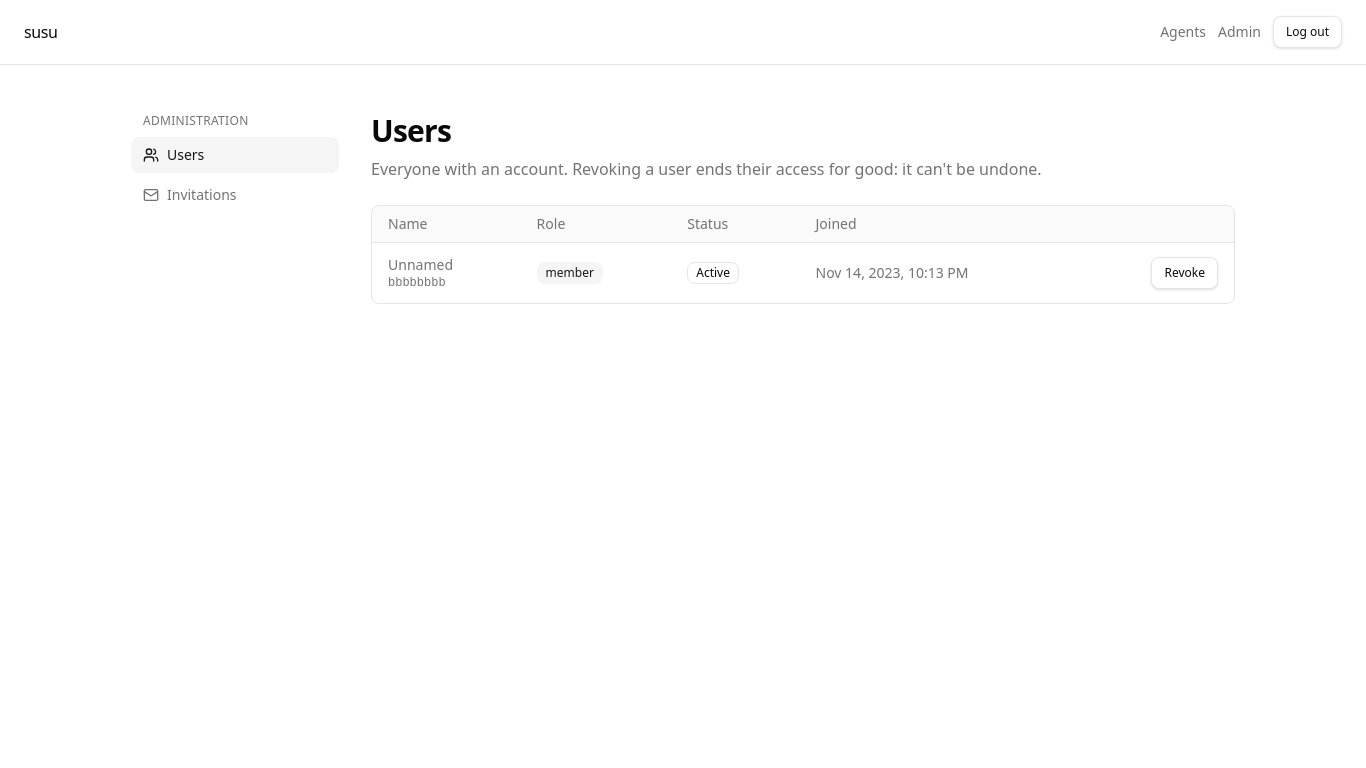
Test: users › an unnamed user is identified by a short id in the confirmation
This screenshot has width=1366, height=768.
Step 1. Click the button with aria-label "Revoke bbbbbbbb" → [1185, 273], box [1152,257,1218,289]
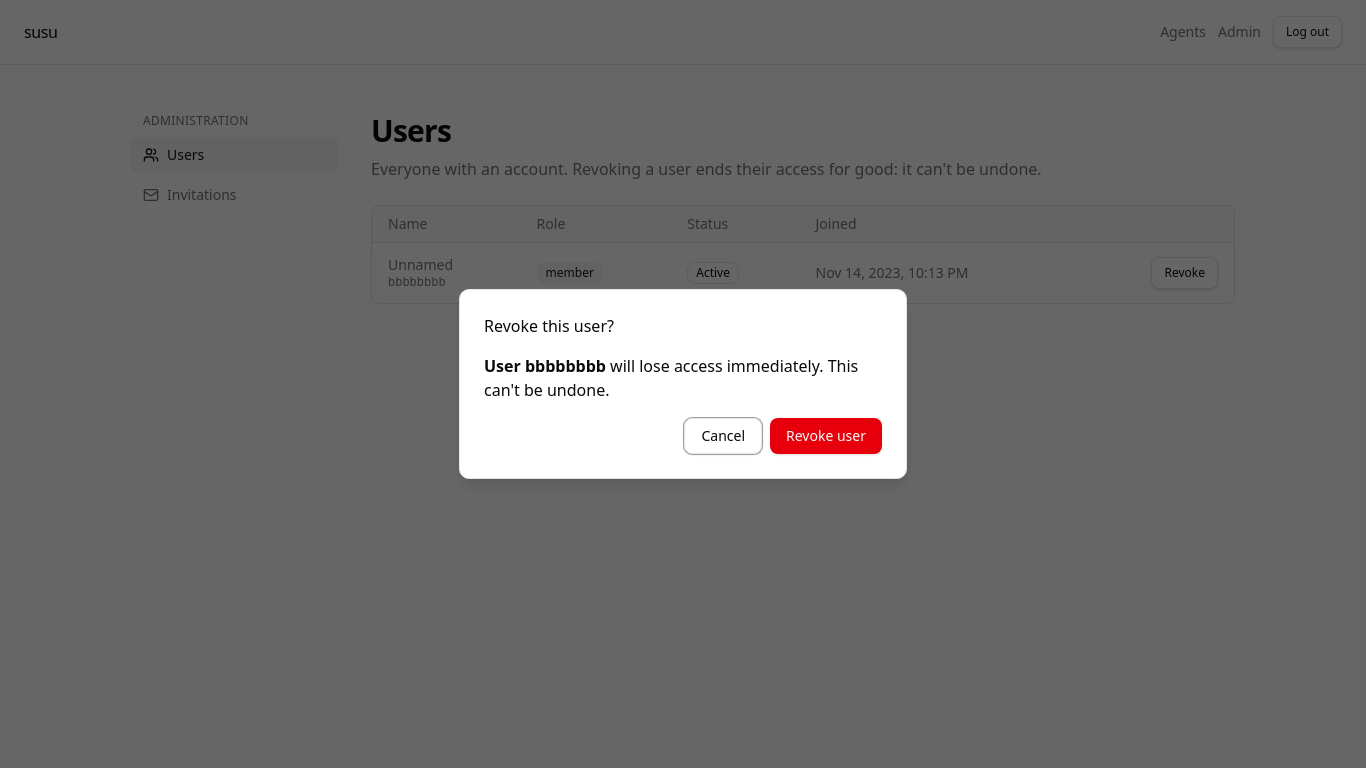
Expected: the dialog shows "User bbbbbbbb will lose access", [459,289,907,479]
